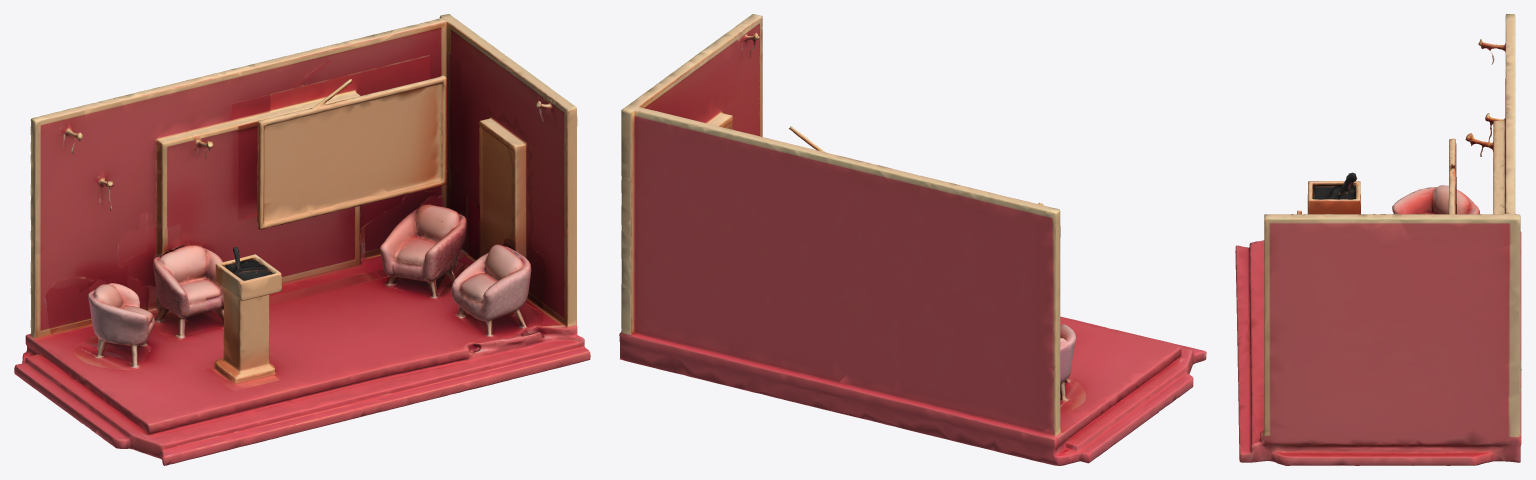
Rendered from corparete_event.glb.
The picture shows the model from 3 angles, left to right: view 1: azimuth 30°, elevation 25°; view 2: azimuth 150°, elevation 25°; view 3: azimuth 270°, elevation 25°; orthographic projection. The views are drawn at different scales.
Size of the model in its own units: 1.92 by 0.9881 by 1.05.
Materials: 1 (1 with a texture image).
